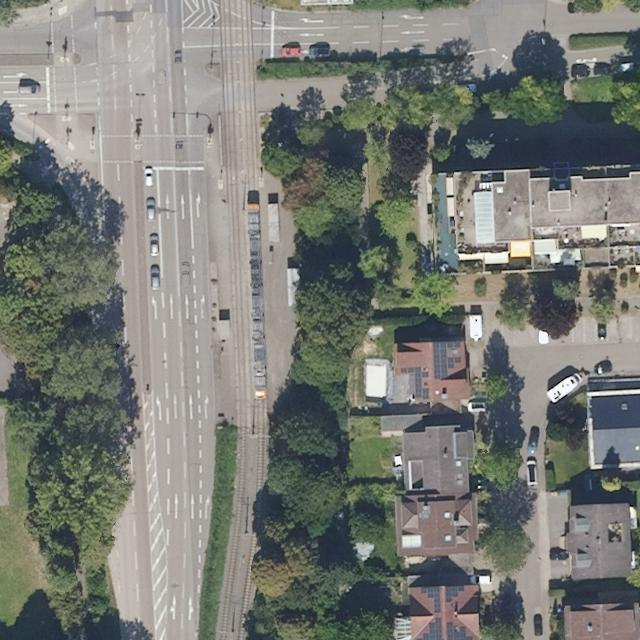PV: (429, 339, 463, 382), (398, 365, 432, 404), (418, 585, 443, 614), (445, 619, 476, 639), (418, 615, 443, 639), (444, 584, 468, 605)
